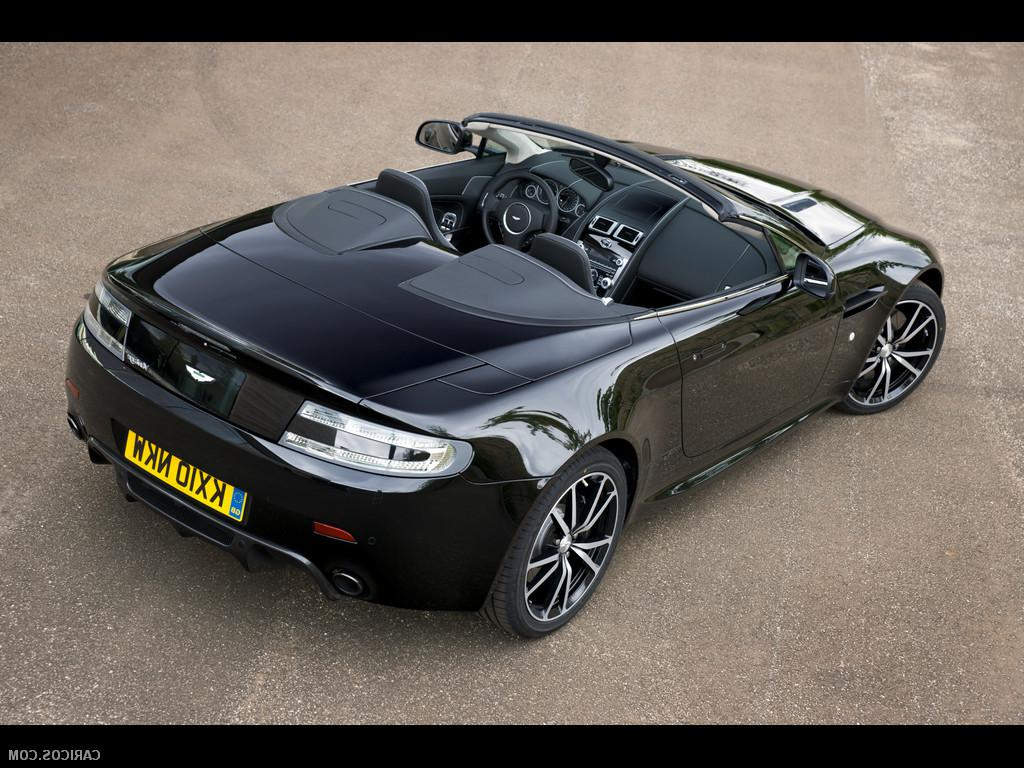Car: (10, 64, 972, 669)
